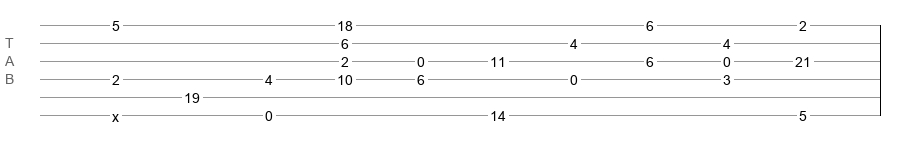0: (265, 108, 273, 118), (417, 54, 425, 64), (570, 72, 578, 82), (723, 54, 731, 64)
10: (337, 72, 353, 82)
11: (490, 54, 506, 64)
14: (490, 108, 506, 118)
18: (337, 18, 353, 28)
19: (184, 90, 200, 100)
2: (112, 72, 120, 82), (341, 54, 349, 64), (799, 18, 807, 28)
21: (795, 54, 811, 64)
3: (723, 72, 731, 82)
4: (265, 72, 273, 82), (570, 36, 578, 46), (723, 36, 731, 46)
5: (112, 18, 120, 28), (799, 108, 807, 118)
6: (341, 36, 349, 46), (417, 72, 425, 82), (646, 18, 654, 28), (646, 54, 654, 64)
x: (112, 109, 119, 117)
